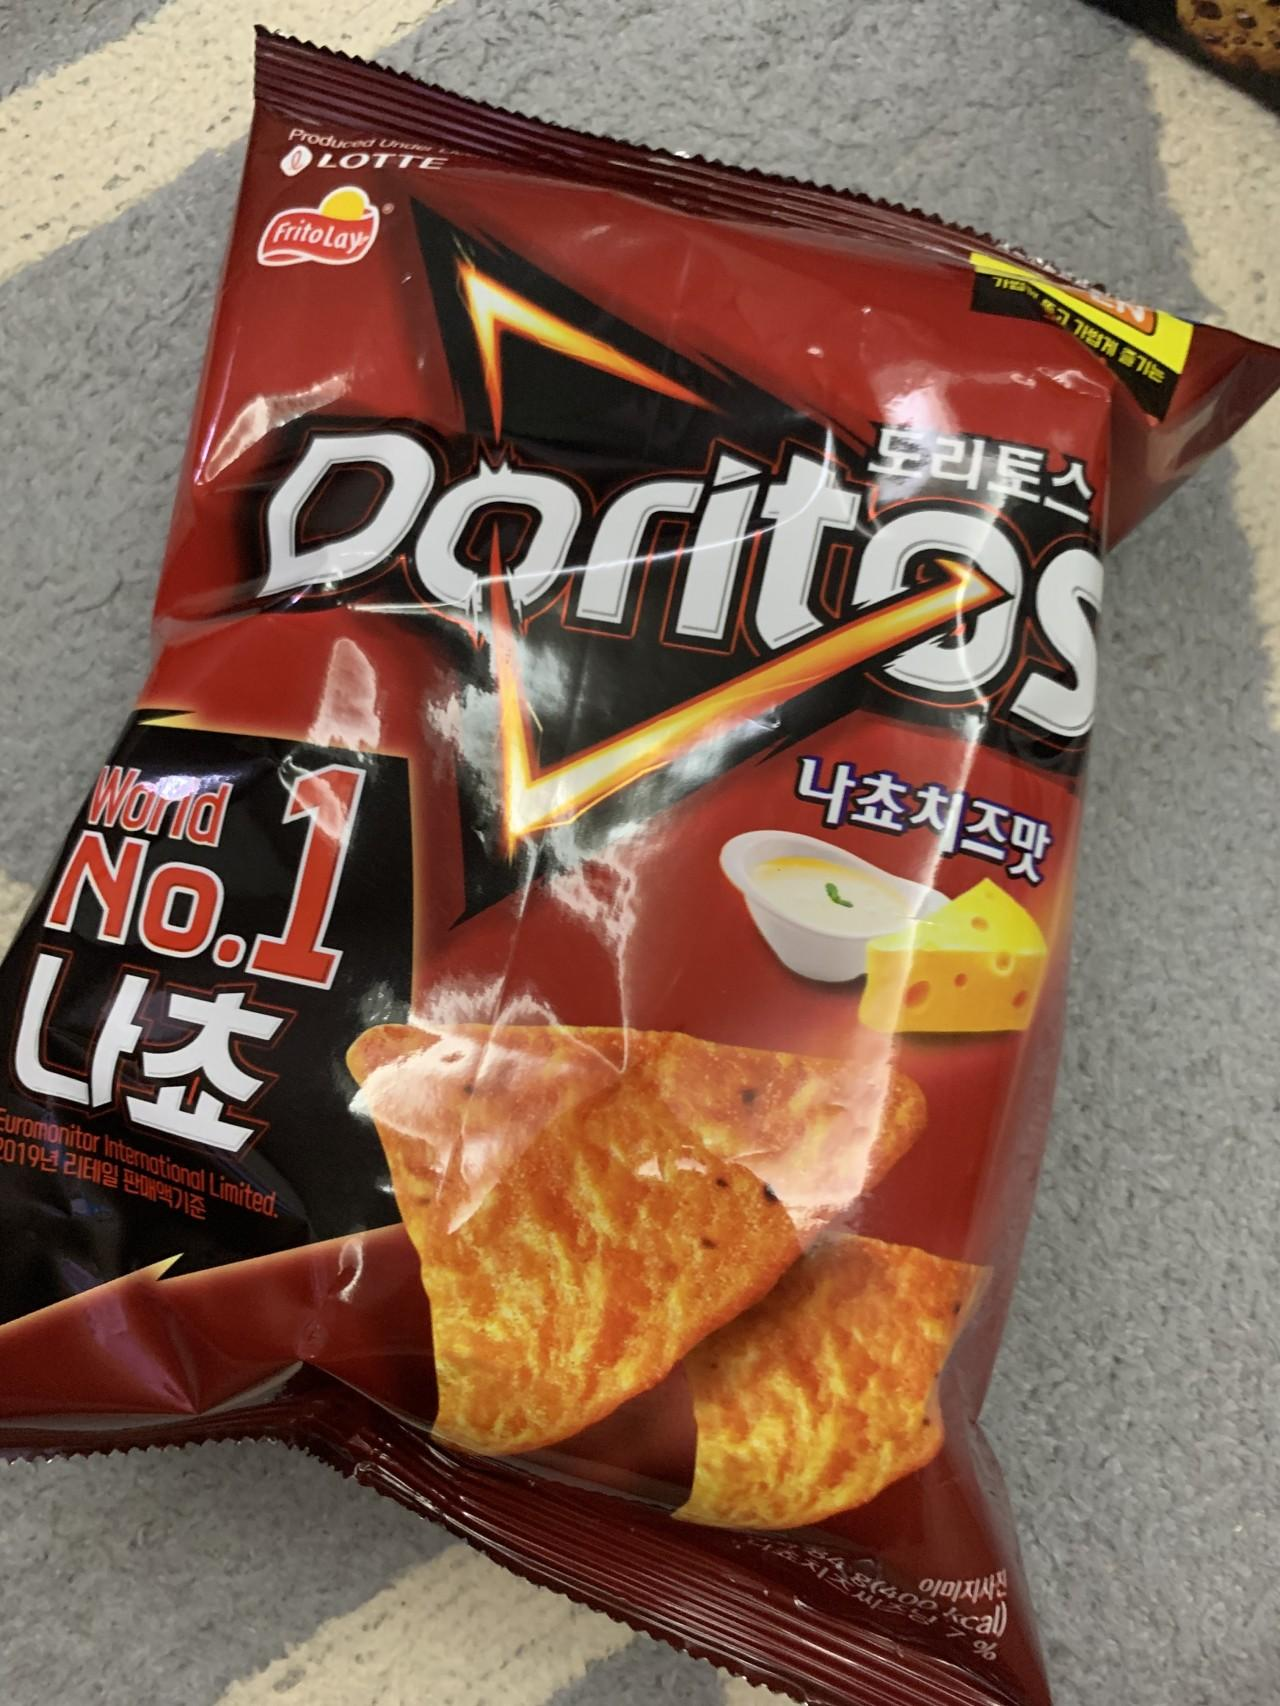snack: (0, 17, 1280, 1706)
